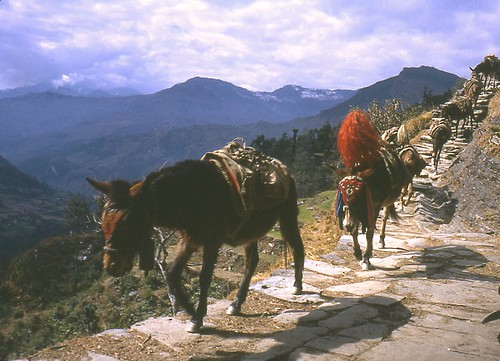equine: (75, 134, 330, 339), (326, 149, 404, 285), (423, 116, 452, 178)
